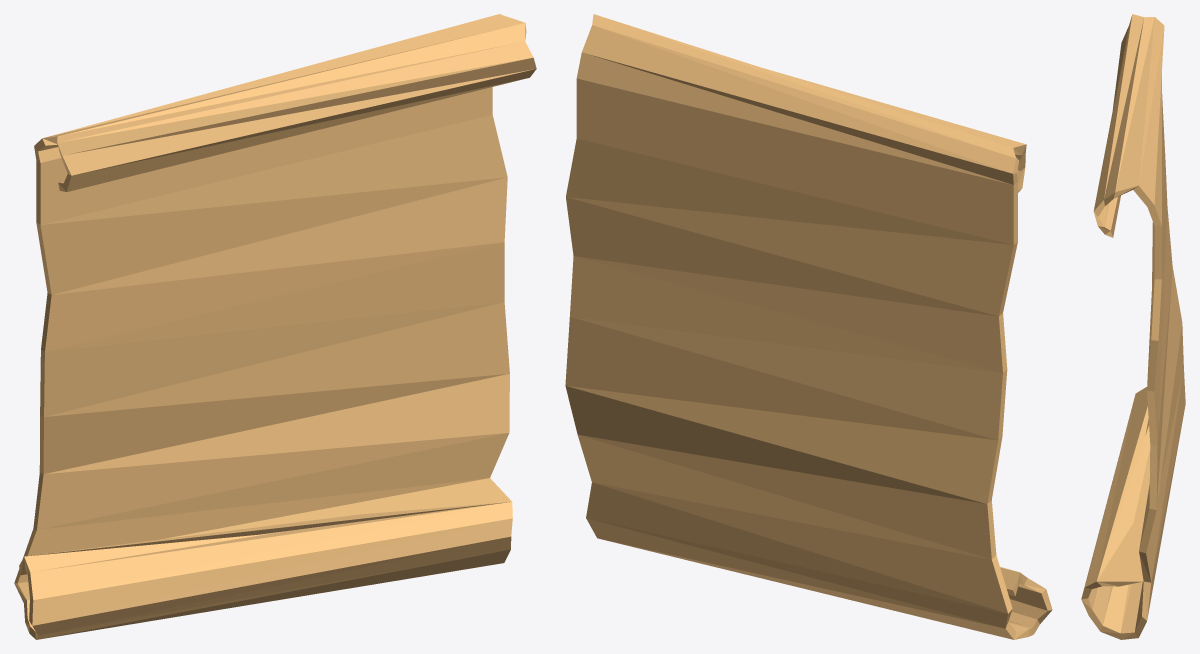
The picture shows the model from 3 angles, left to right: view 1: azimuth 30°, elevation 25°; view 2: azimuth 150°, elevation 25°; view 3: azimuth 270°, elevation 25°; orthographic projection. The views are drawn at different scales.
Parts seen in each view (by area): view 1: group69953592; view 2: group69953592; view 3: group69953592.
Boxes of the visible parts, x1,y1,x2,y2 form: group69953592: (14,14,536,639); group69953592: (565,14,1052,639); group69953592: (1081,14,1185,639).
Bounding box in the file's own units: 0.6595 × 0.6889 × 0.1422.
